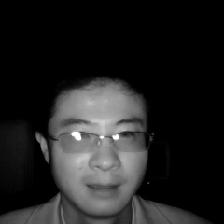normal: (30, 63, 156, 215)
